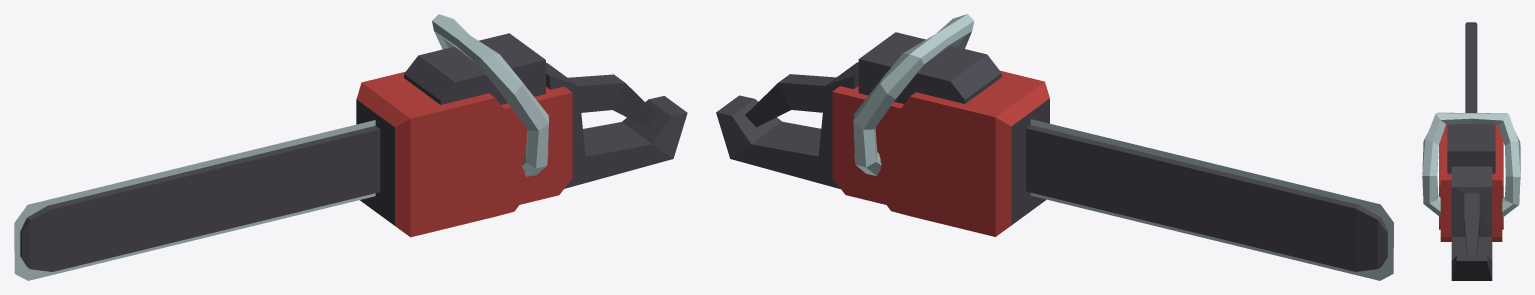
The model's file is chainsaw.fbx.
3 views of the same model, side by side, from view 1: azimuth 30°, elevation 25°; view 2: azimuth 150°, elevation 25°; view 3: azimuth 270°, elevation 25° (orthographic). The views are drawn at different scales.
Visible parts, largest first — view 1: Cube, Cube.001, Cube.004, Cube.003, Cylinder.004, Plane, Cube.002; view 2: Cube, Cube.001, Cube.004, Cube.003, Cylinder.004, Plane, Cube.002; view 3: Cube.004, Cylinder.004, Cube.003, Cube.002, Cube, Cube.001.
Boxes of the visible parts, x1=… form: Cube: x1=20, y1=99, x2=394, y2=271; Cube.001: x1=356, y1=71, x2=525, y2=237; Cube.004: x1=546, y1=63, x2=687, y2=188; Cube.003: x1=404, y1=33, x2=545, y2=104; Cylinder.004: x1=432, y1=14, x2=548, y2=176; Plane: x1=14, y1=120, x2=375, y2=280; Cube.002: x1=501, y1=86, x2=572, y2=204; Cube: x1=1011, y1=98, x2=1387, y2=271; Cube.001: x1=880, y1=70, x2=1049, y2=236; Cube.004: x1=716, y1=62, x2=858, y2=189; Cube.003: x1=858, y1=32, x2=1001, y2=103; Cylinder.004: x1=853, y1=14, x2=974, y2=175; Plane: x1=1030, y1=119, x2=1393, y2=280; Cube.002: x1=832, y1=86, x2=903, y2=204; Cube.004: x1=1451, y1=166, x2=1492, y2=280; Cylinder.004: x1=1422, y1=112, x2=1520, y2=217; Cube.003: x1=1447, y1=123, x2=1495, y2=173; Cube.002: x1=1440, y1=158, x2=1502, y2=241; Cube: x1=1465, y1=22, x2=1477, y2=112; Cube.001: x1=1439, y1=124, x2=1503, y2=229.
Size of the model in its own units: 589 by 141 by 115.
